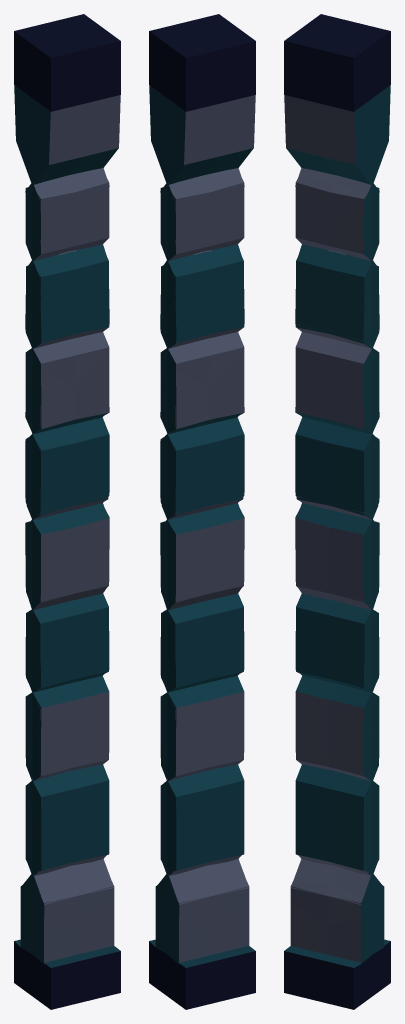
Rendered from Tembok 20.fbx.
3 renders of one model, left to right at view 1: azimuth 30°, elevation 25°; view 2: azimuth 210°, elevation 25°; view 3: azimuth 330°, elevation 25°, orthographic.
Parts seen in each view (by area): view 1: Tembok 20 Cm; view 2: Tembok 20 Cm; view 3: Tembok 20 Cm.
Boxes of the visible parts, box(x1,y1,x2,y2) form: Tembok 20 Cm: box(14, 14, 120, 1009); Tembok 20 Cm: box(149, 14, 255, 1009); Tembok 20 Cm: box(284, 14, 390, 1009).
Bounding box in the file's own units: 40.26 × 520 × 36.51.
